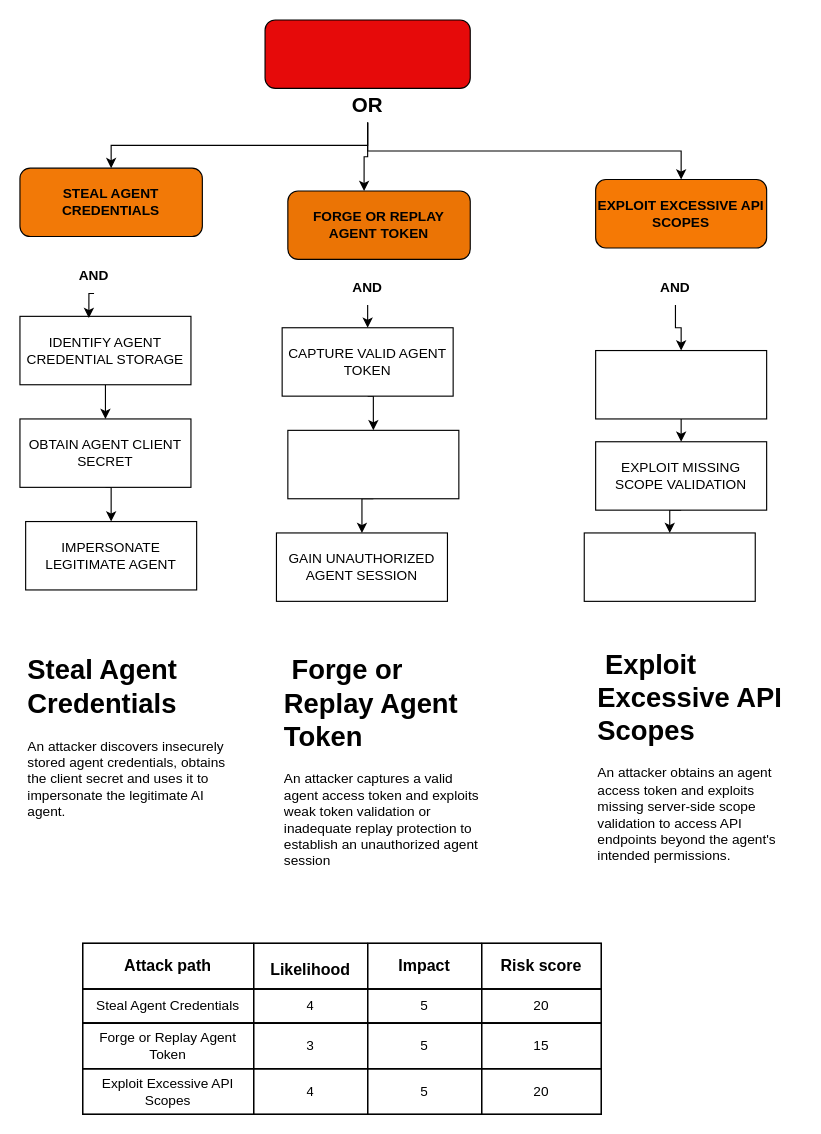
The diagram is 821 pixels wide and 1134 high, and some of its shapes have lost their labels. Each missing label, with the centre of its shape:
"ACCESS PRIVILEGED API ENDPOINT" belongs at point 669,566.
"EXPLOIT TOKEN VALIDATION OR REPLAY PROTECTION WEAKNESS" belongs at point 373,464.
"GAIN ELEVATED API ACCESS" belongs at point 367,53.
"OBTAIN AGENT ACCESS TOKEN" belongs at point 681,384.
